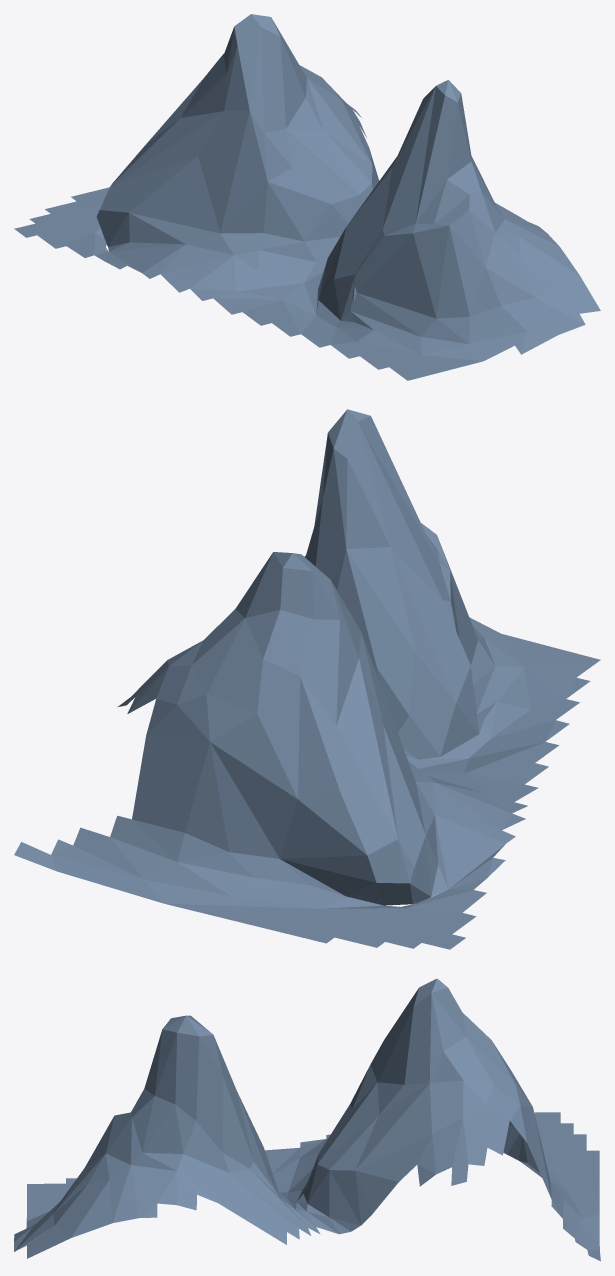
3 views of the same model, one above another, from view 1: azimuth 30°, elevation 25°; view 2: azimuth 150°, elevation 25°; view 3: azimuth 270°, elevation 25° (orthographic). The views are drawn at different scales.
Visible parts, largest first — view 1: MT2; view 2: MT2; view 3: MT2.
Boxes of the visible parts, box(x1,y1,x2,y2) form: MT2: box(14, 14, 600, 380); MT2: box(14, 409, 600, 949); MT2: box(14, 978, 600, 1261).
Size of the model in its own units: 56.37 by 36.1 by 82.02.
